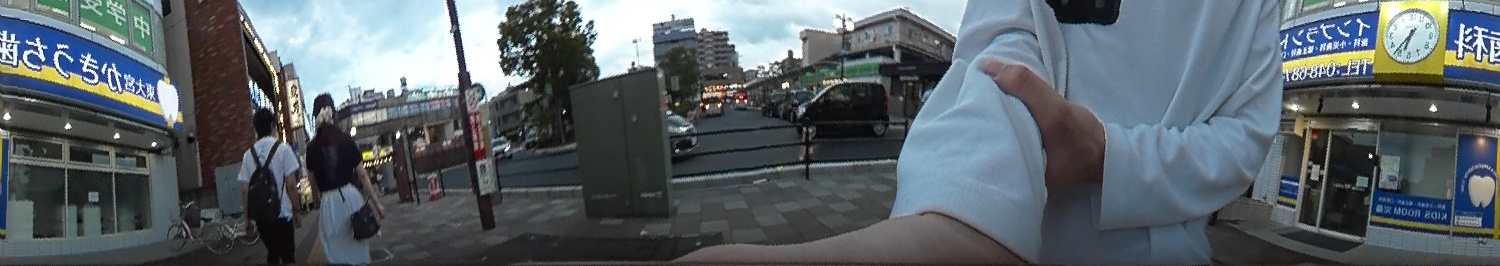person: (301, 78, 389, 266), (231, 110, 299, 266)
